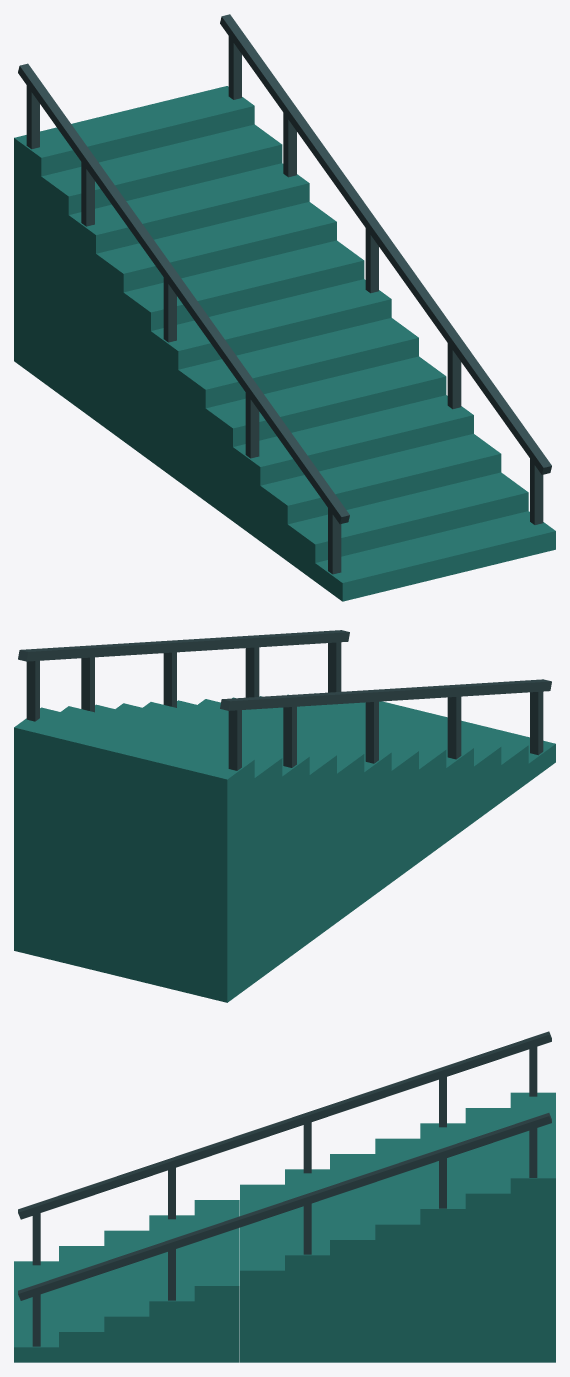
Rendered from workshop_stair.gltf.
3 renders of one model, top to bottom at view 1: azimuth 30°, elevation 25°; view 2: azimuth 150°, elevation 25°; view 3: azimuth 270°, elevation 25°, orthographic. The views are drawn at different scales.
Parts seen in each view (by area): view 1: Workshop stair module; view 2: Workshop stair module; view 3: Workshop stair module.
Part boxes in pixels (bbox=[...]): Workshop stair module: bbox=[14, 14, 555, 601]; Workshop stair module: bbox=[14, 630, 555, 1002]; Workshop stair module: bbox=[14, 1031, 555, 1362].
Bounding box in the file's own units: 3 × 4.01 × 8.
